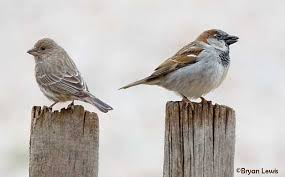hsparrow: (111, 26, 251, 113), (25, 33, 118, 122)
